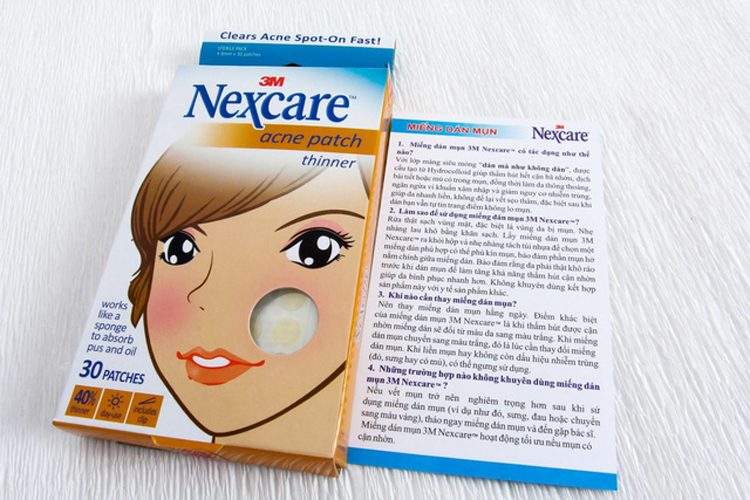3M: (256, 71, 291, 91)
